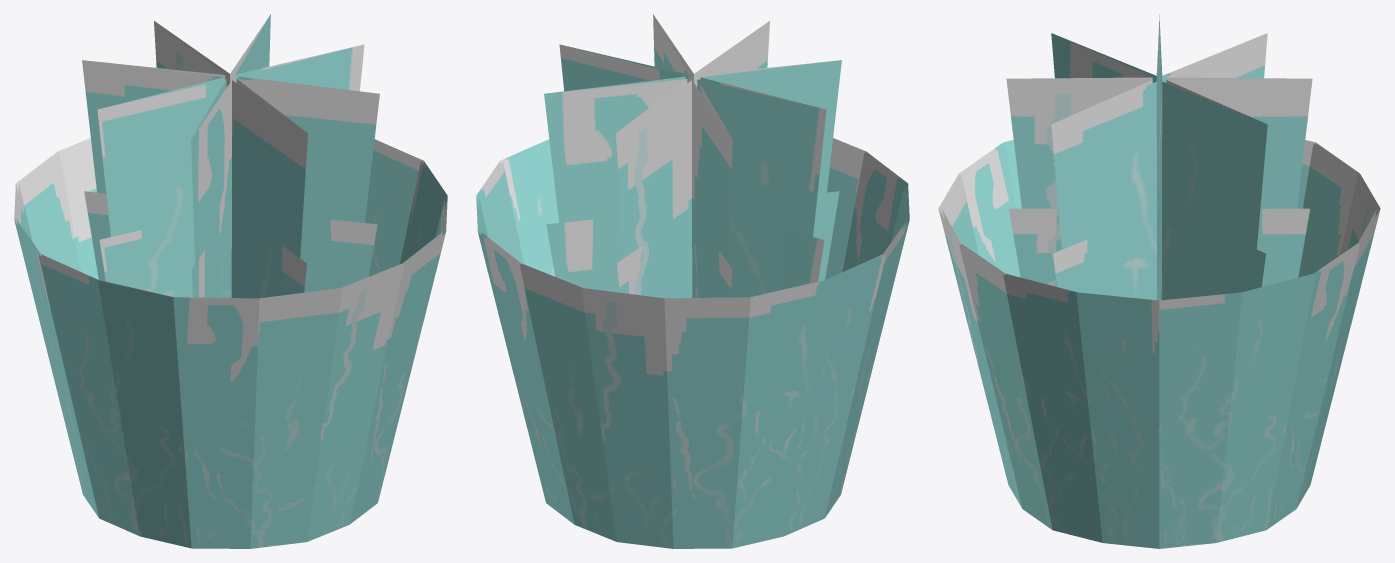
File: SOS_props_LightningSparks_B_03.fbx
The picture shows the model from 3 angles, left to right: view 1: azimuth 30°, elevation 25°; view 2: azimuth 150°, elevation 25°; view 3: azimuth 270°, elevation 25°; orthographic projection.
Parts seen in each view (by area): view 1: Lightning Sparks B; view 2: Lightning Sparks B; view 3: Lightning Sparks B.
Part boxes in pixels (left/top/right/bottom): Lightning Sparks B: left=14, top=14, right=447, bottom=548; Lightning Sparks B: left=476, top=14, right=909, bottom=548; Lightning Sparks B: left=938, top=14, right=1380, bottom=548.
Bounding box in the file's own units: 374 × 379 × 374.
